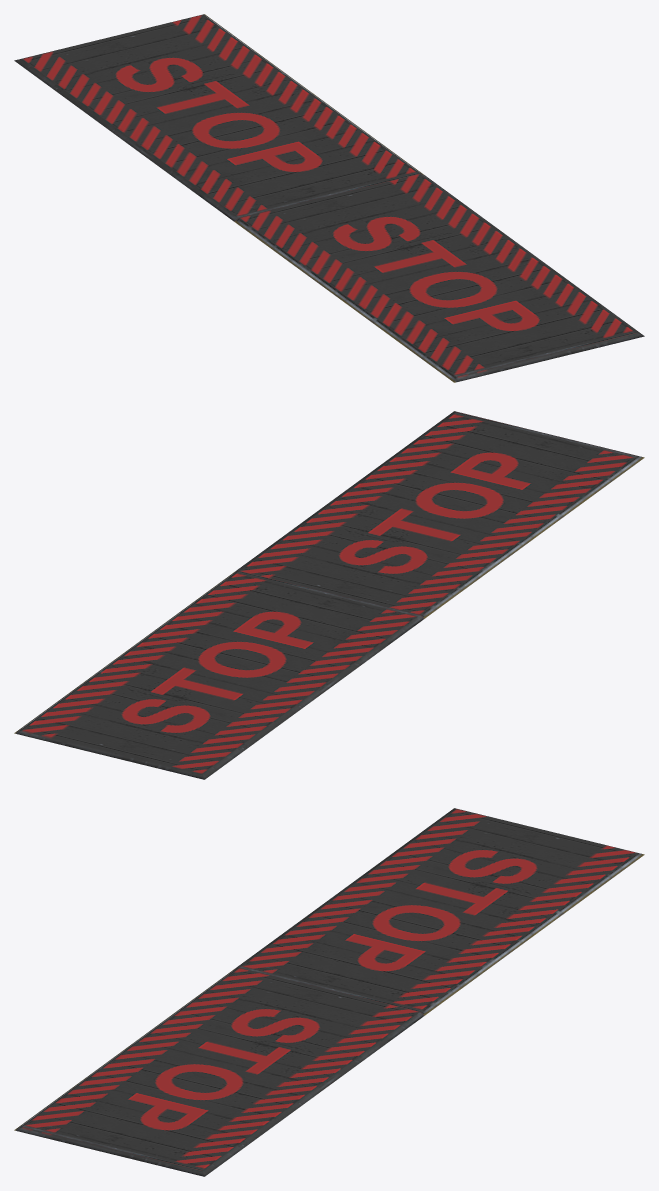
The model's file is CP_Stop_Line.fbx.
3 views of the same model, one above another, from view 1: azimuth 30°, elevation 25°; view 2: azimuth 150°, elevation 25°; view 3: azimuth 330°, elevation 25° (orthographic).
Visible parts, largest first — view 1: CP_Stop_Line; view 2: CP_Stop_Line; view 3: CP_Stop_Line.
Boxes of the visible parts, box(x1,y1,x2,y2) form: CP_Stop_Line: box(14, 14, 644, 382); CP_Stop_Line: box(14, 411, 644, 779); CP_Stop_Line: box(14, 808, 644, 1176).
Bounding box in the file's own units: 50 × 0.6344 × 200.
